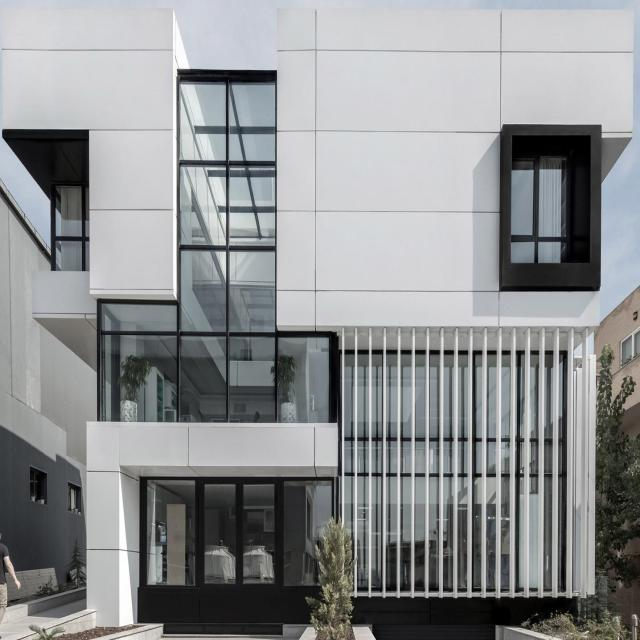door: (194, 480, 285, 592)
window: (98, 73, 334, 421), (336, 348, 574, 592), (143, 479, 332, 591), (510, 158, 570, 264), (51, 180, 90, 270)
